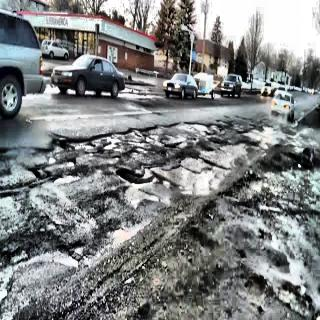pothole: (39, 136, 174, 219), (119, 128, 228, 198), (257, 207, 320, 320), (39, 236, 92, 271), (242, 120, 280, 151), (105, 221, 148, 247)
